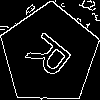R: (24, 29, 81, 86)
